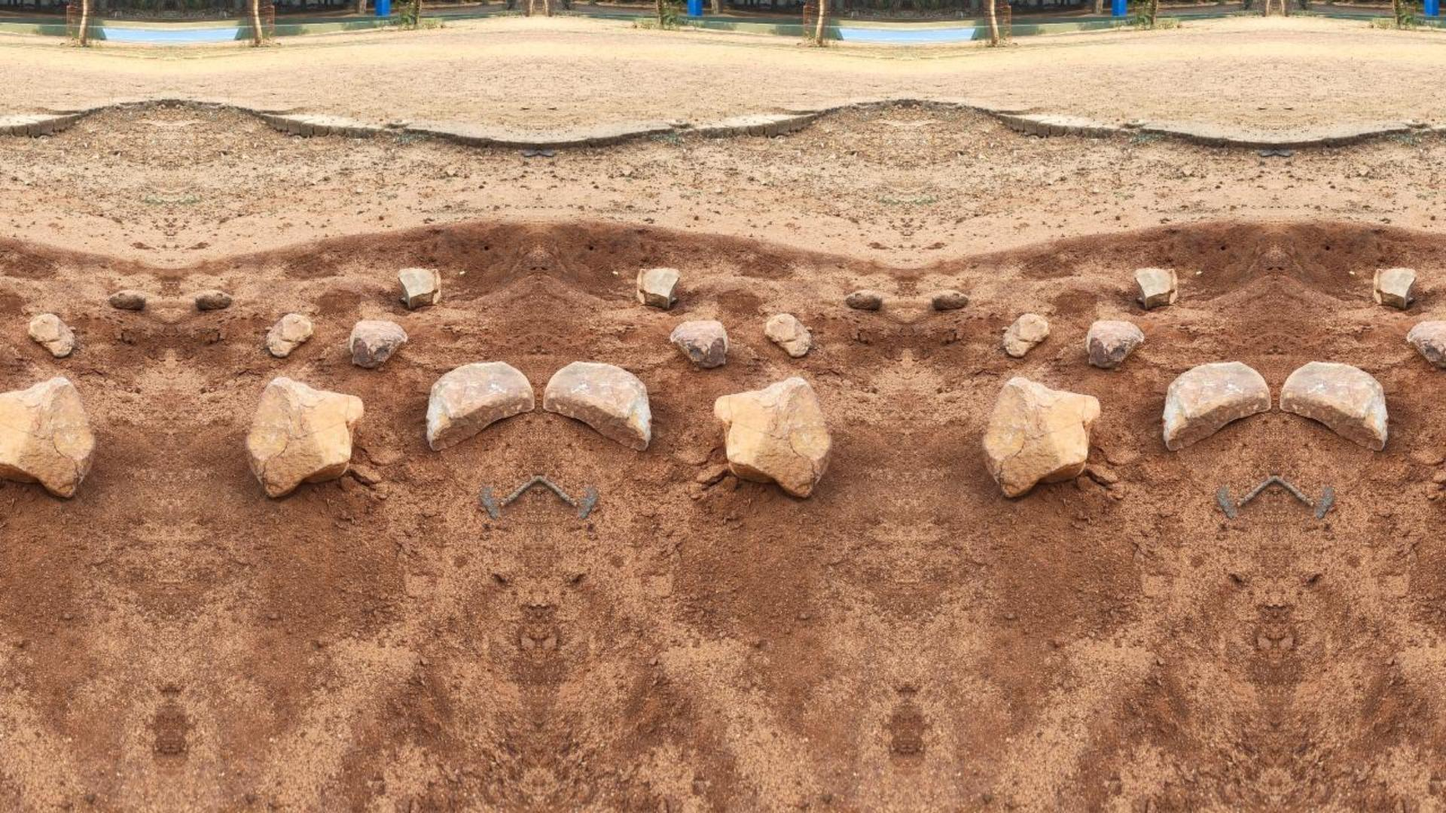rock: (245, 377, 364, 498), (982, 377, 1099, 497), (714, 376, 830, 497), (0, 376, 95, 497), (543, 361, 650, 449), (426, 361, 533, 449), (1164, 361, 1270, 449), (1280, 362, 1386, 449), (349, 320, 407, 368), (669, 320, 728, 367), (1086, 321, 1143, 368), (265, 313, 313, 357), (1001, 313, 1049, 357), (764, 313, 811, 357), (28, 313, 75, 357), (1405, 321, 1445, 368), (636, 268, 680, 308), (398, 268, 441, 308), (1134, 268, 1177, 308), (1374, 268, 1415, 309), (194, 289, 232, 311), (931, 289, 968, 311), (108, 289, 145, 311), (844, 290, 882, 311)
